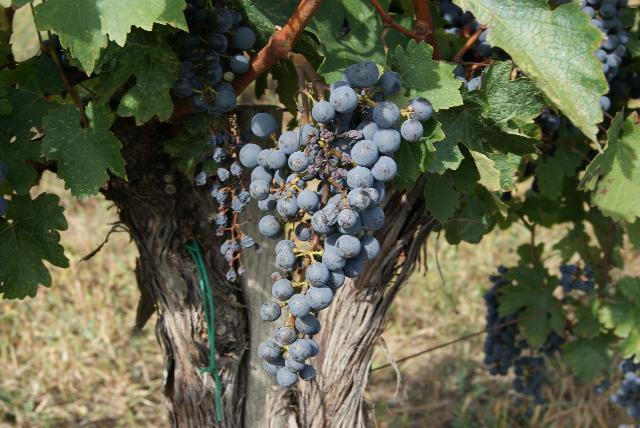grapes: (251, 60, 432, 388)
